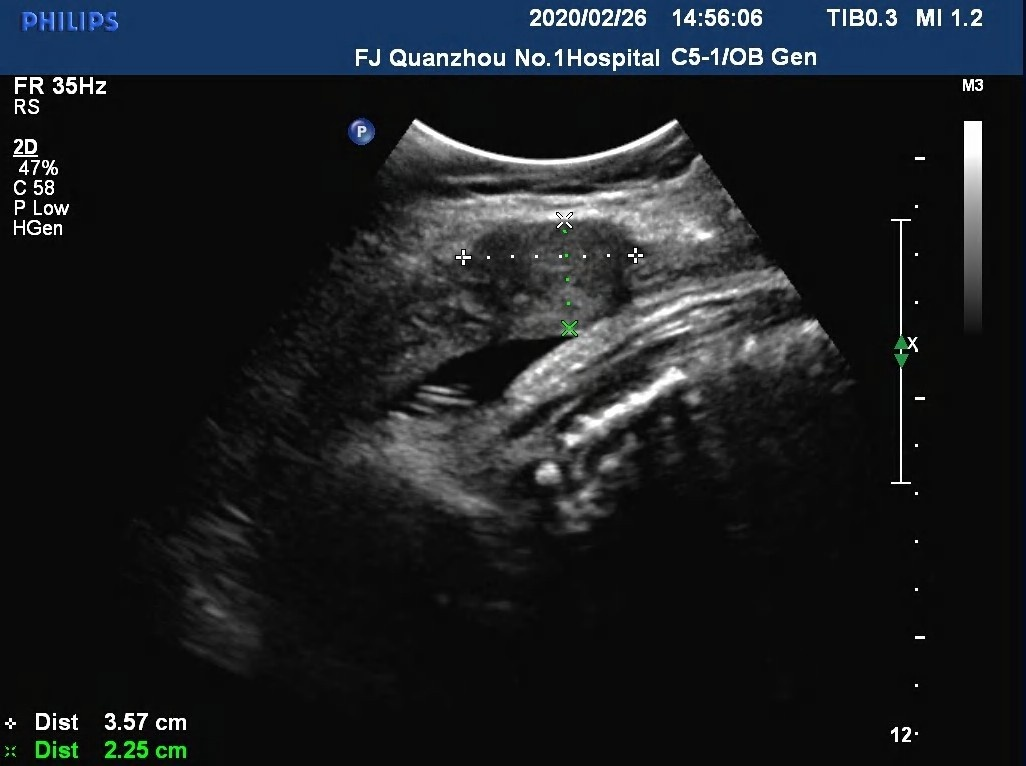肌瘤: (475, 230, 630, 307)
